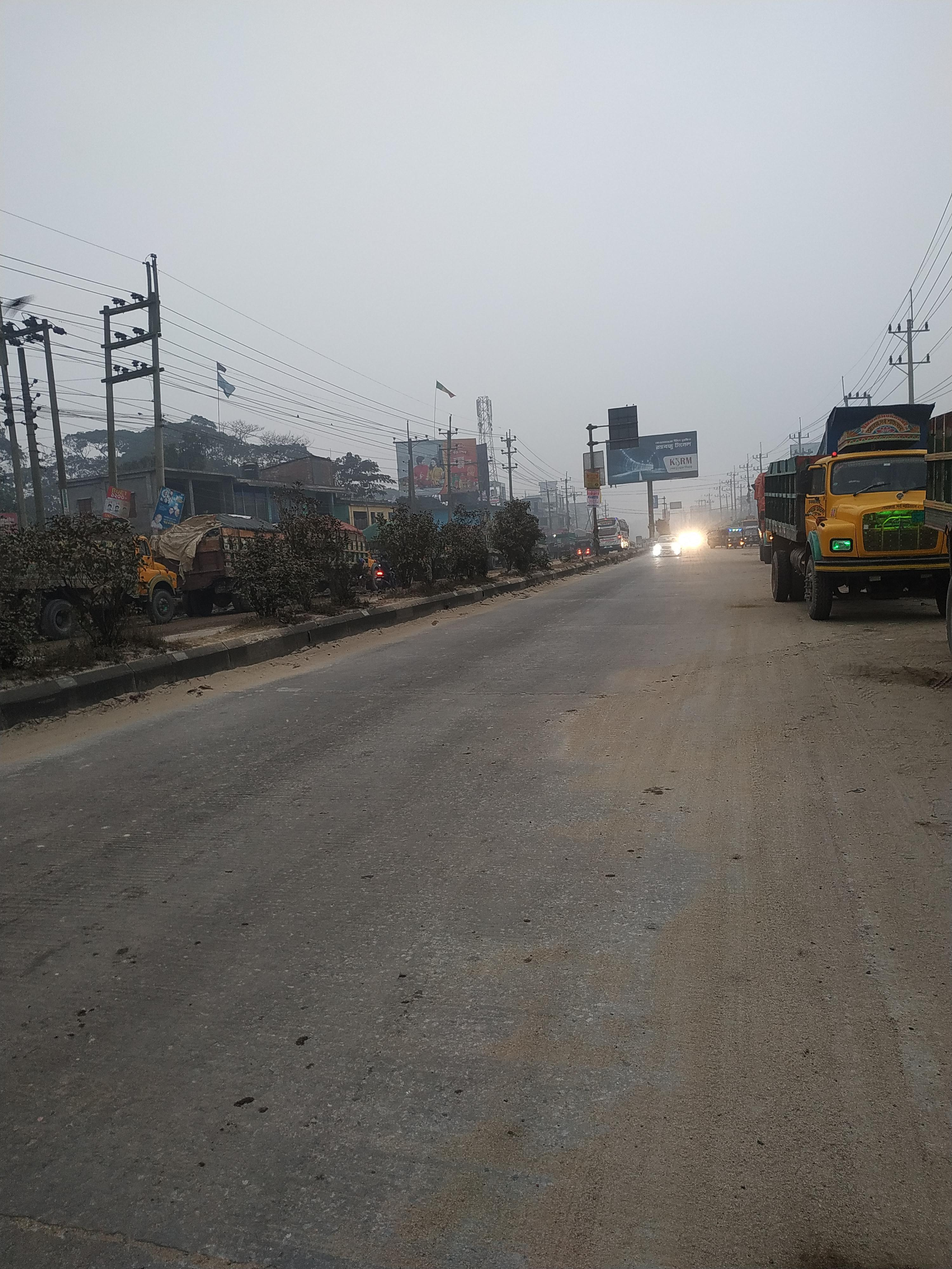Car: (638, 530, 686, 567)
Truck: (735, 386, 941, 637)
